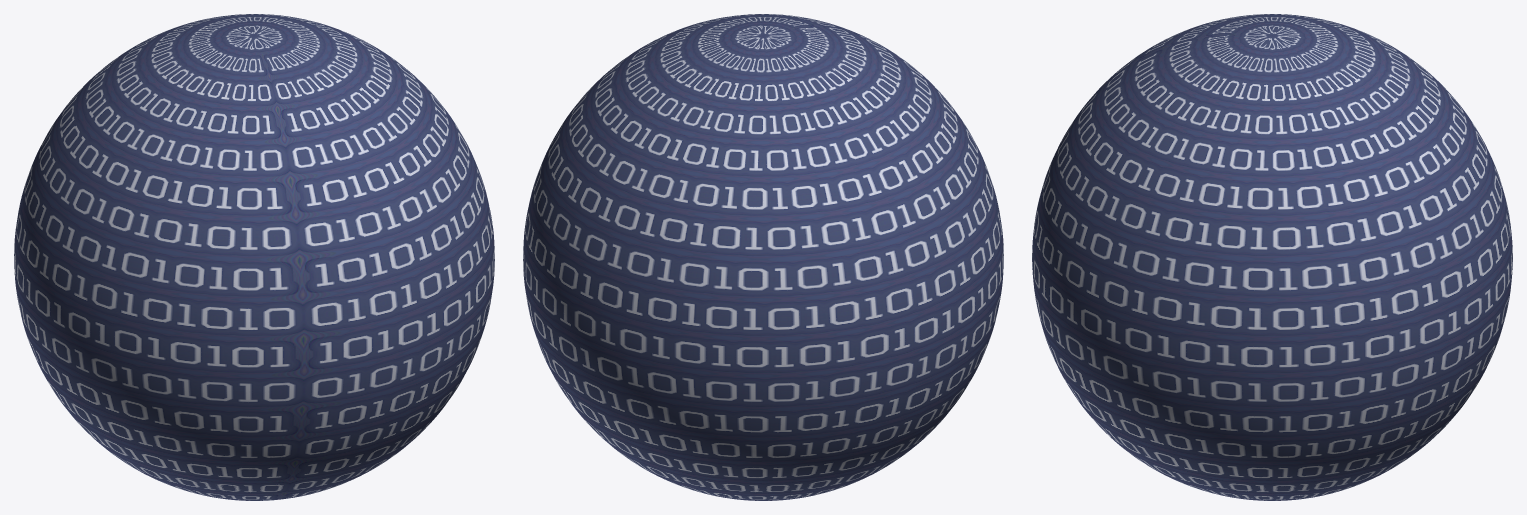
The picture shows the model from 3 angles, left to right: view 1: azimuth 30°, elevation 25°; view 2: azimuth 150°, elevation 25°; view 3: azimuth 270°, elevation 25°; orthographic projection.
Visible parts, largest first — view 1: signalpatternsphere; view 2: signalpatternsphere; view 3: signalpatternsphere.
Part boxes in pixels (x1=…): signalpatternsphere: x1=14, y1=14, x2=494, y2=500; signalpatternsphere: x1=523, y1=14, x2=1003, y2=500; signalpatternsphere: x1=1032, y1=14, x2=1512, y2=500.
Bounding box in the file's own units: 21.09 × 21.47 × 21.09.
1 material, 1 textured.
